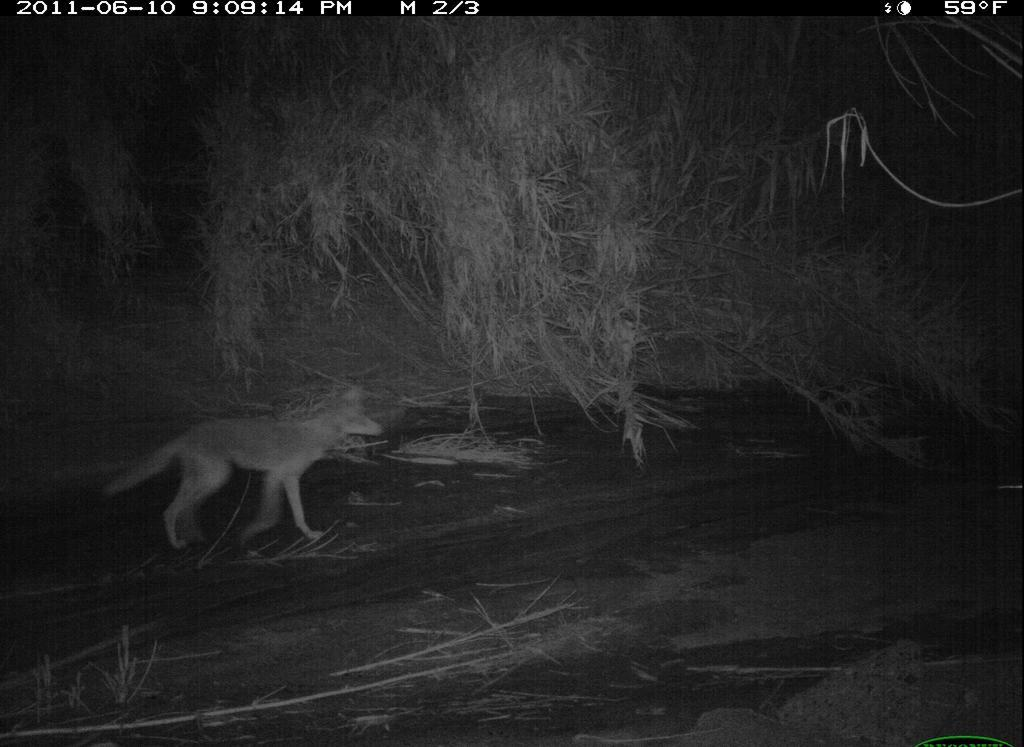coyote: (93, 376, 386, 564)
